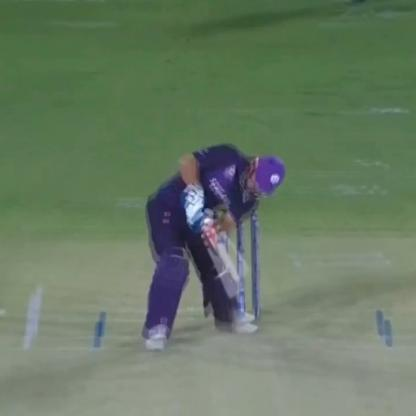bat: (193, 213, 250, 303)
